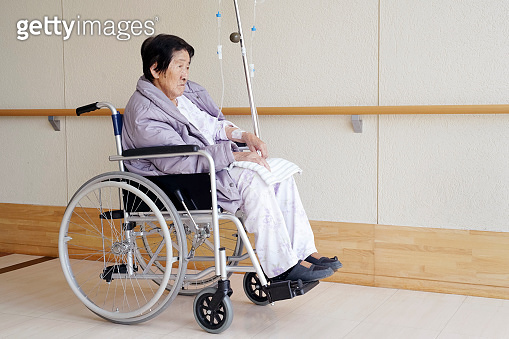wheelchair: (58, 34, 343, 334)
